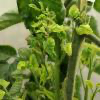Tomato leaf yellow virus: (43, 35, 59, 61), (62, 38, 74, 61), (50, 24, 70, 36), (75, 23, 93, 35)
